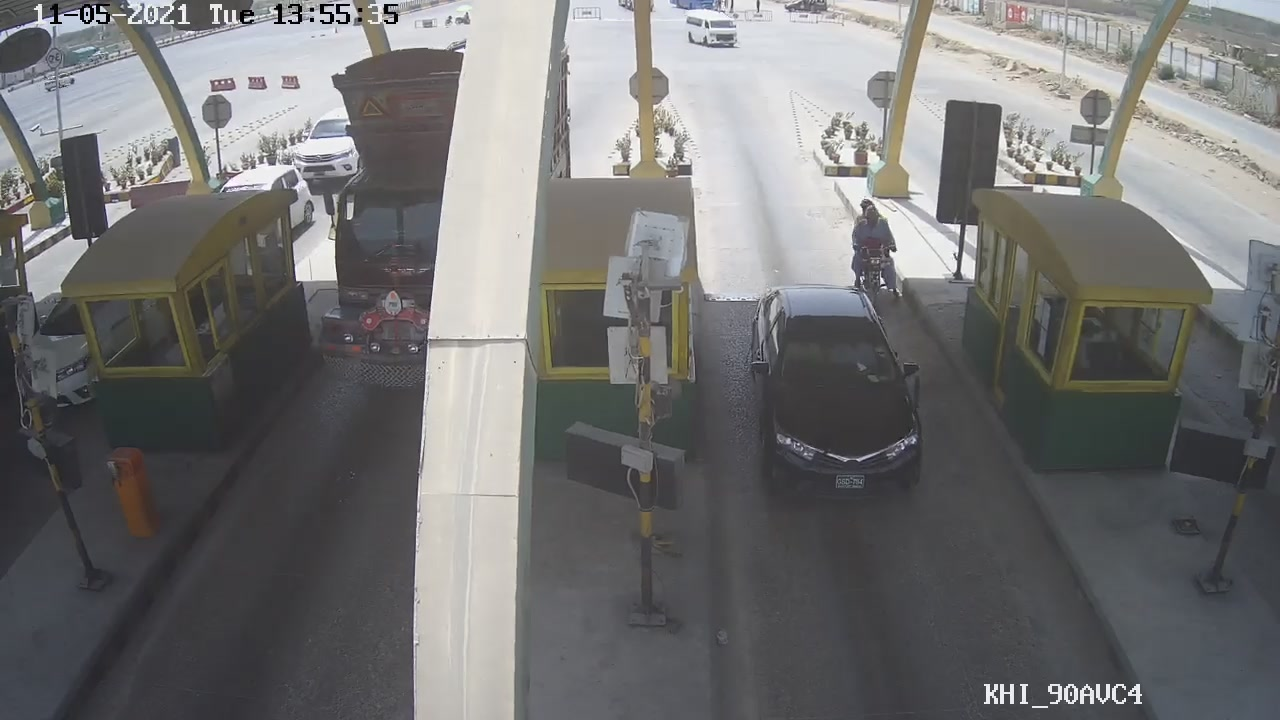F2: (745, 280, 930, 501)
